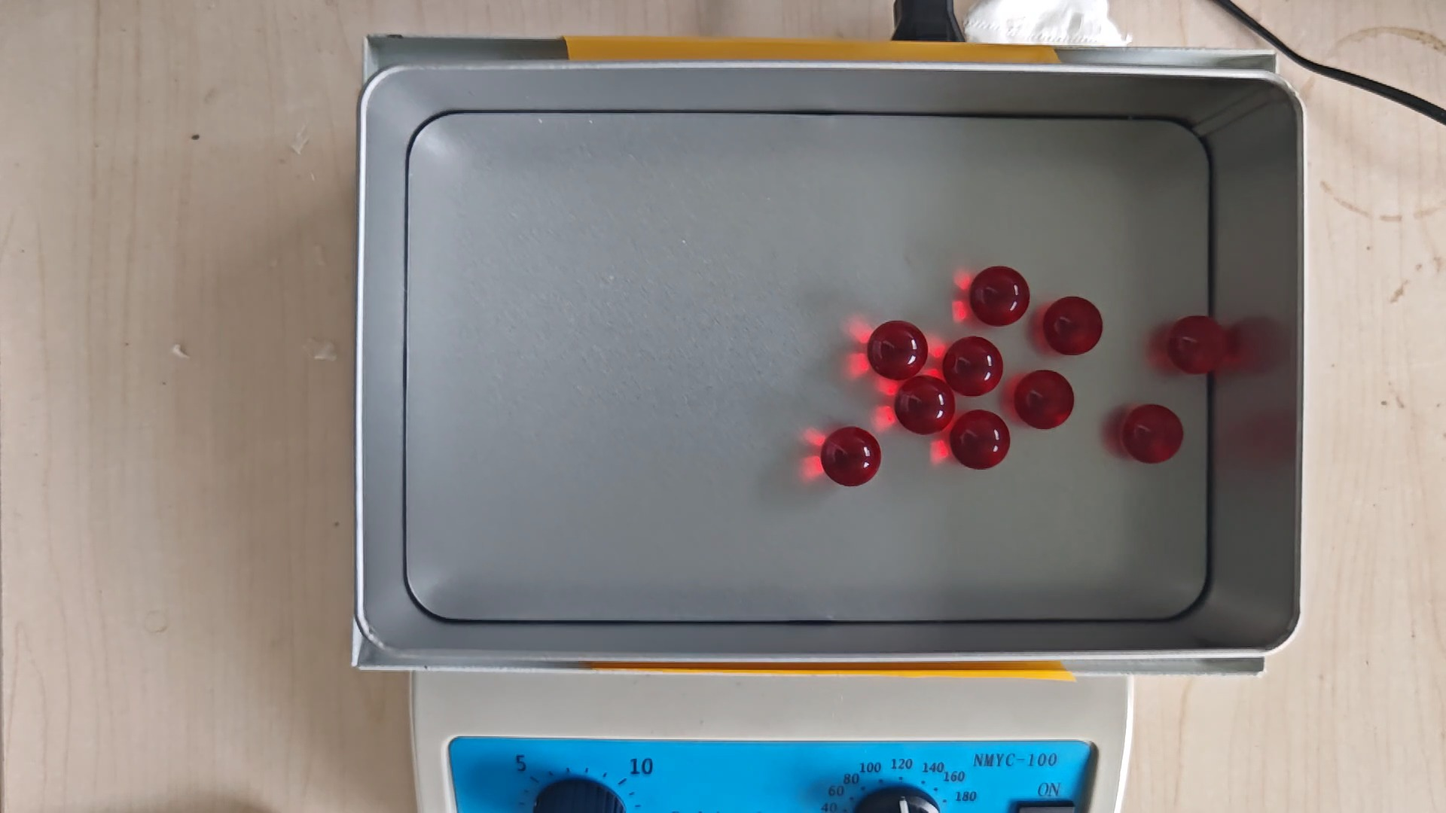ball: (1122, 403, 1184, 465), (1015, 369, 1075, 430), (822, 426, 881, 488), (970, 265, 1029, 327), (895, 375, 955, 435), (944, 335, 1003, 396), (1044, 295, 1103, 356), (951, 410, 1010, 470), (1167, 315, 1226, 375), (867, 320, 926, 380)
container: (405, 113, 1210, 622)
